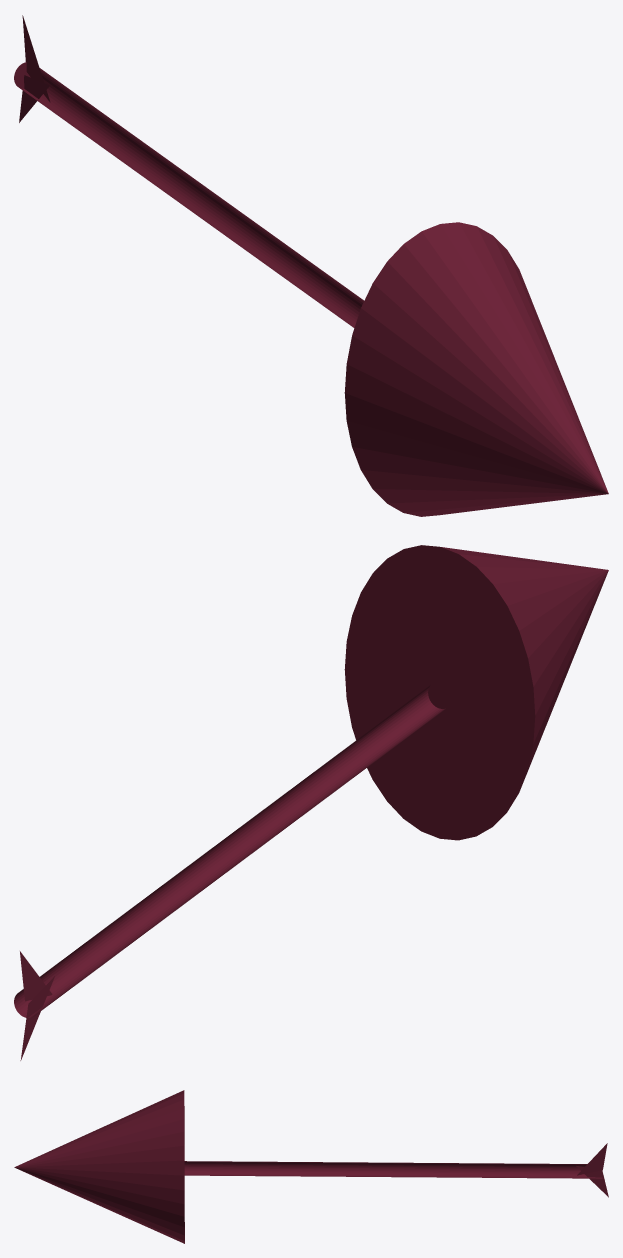
The picture shows the model from 3 angles, top to bottom: view 1: azimuth 30°, elevation 25°; view 2: azimuth 150°, elevation 25°; view 3: azimuth 270°, elevation 25°; orthographic projection. The views are drawn at different scales.
Parts seen in each view (by area): view 1: Plane; view 2: Plane; view 3: Plane.
Part boxes in pixels (x1,y1,x2,y2): Plane: [14, 15, 608, 516]; Plane: [14, 545, 608, 1060]; Plane: [14, 1090, 608, 1243].
Size of the model in its own units: 2 by 2.93 by 10.72.
